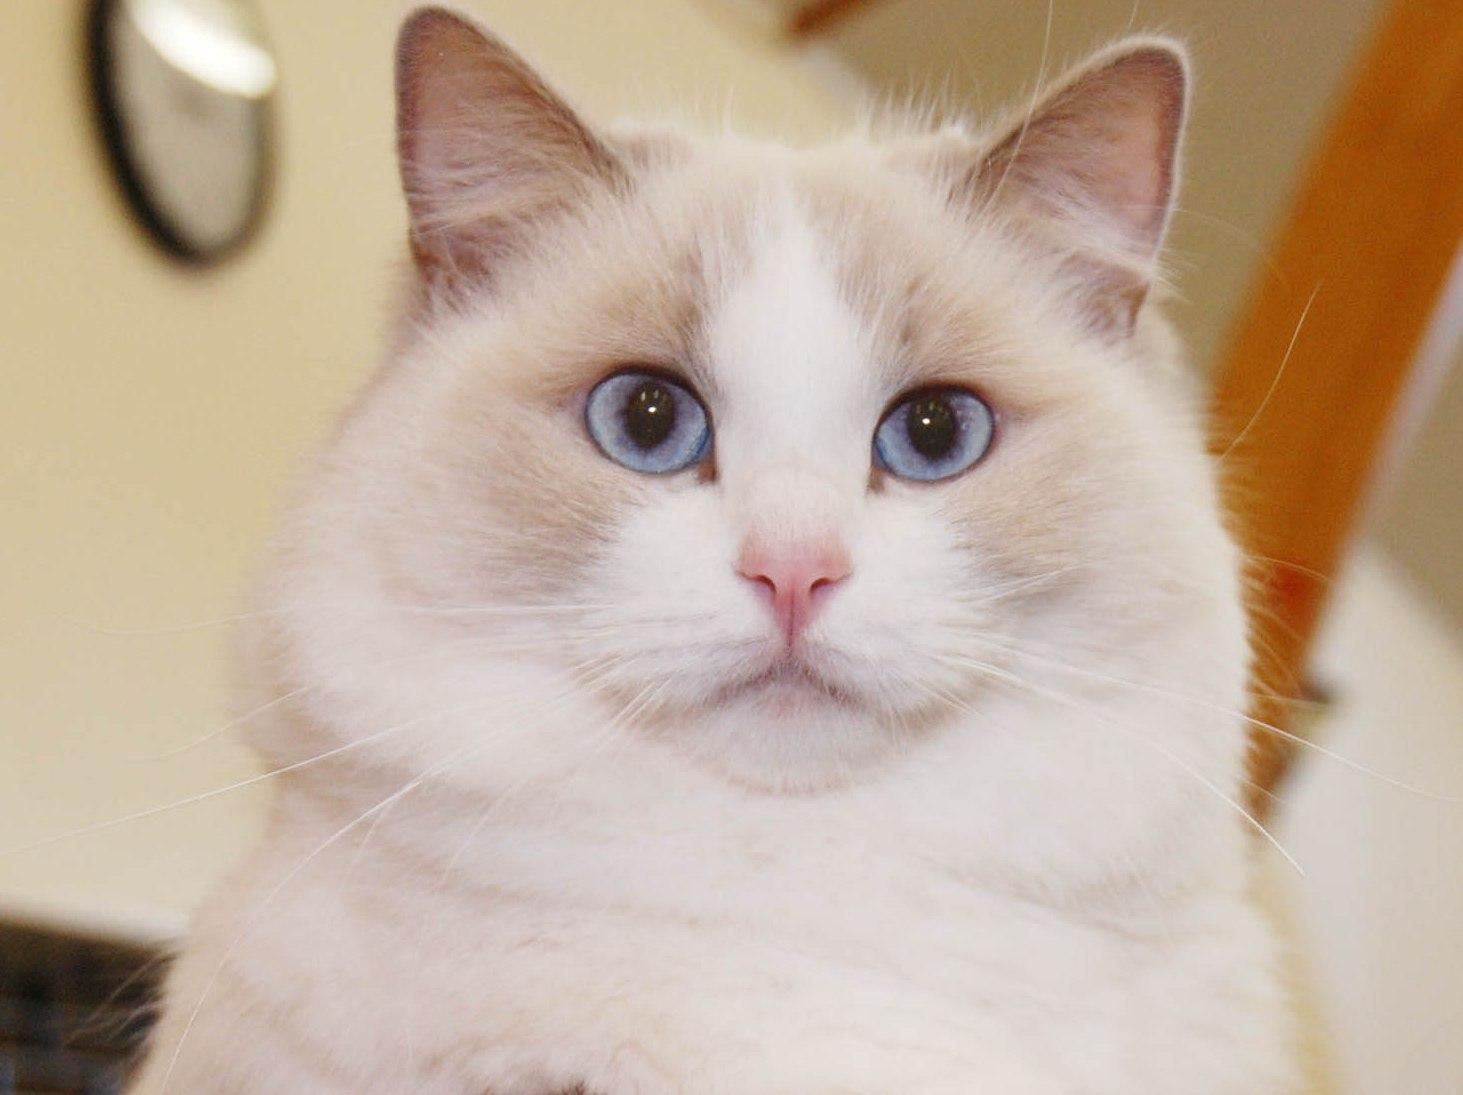ragdoll: (369, 1, 1209, 824)
